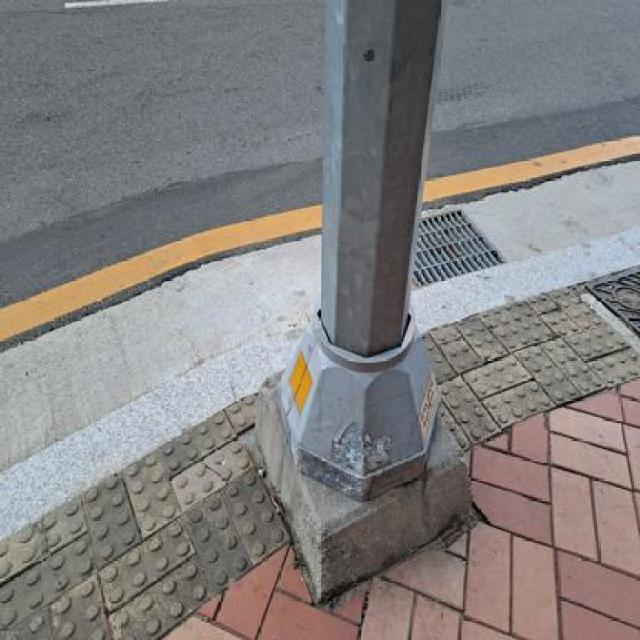pole: (236, 0, 490, 606)
